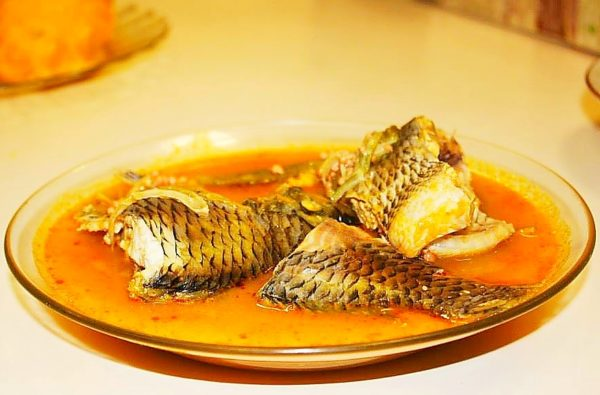oignon: (147, 183, 209, 208)
poivron: (358, 135, 371, 182)
sauce: (191, 304, 271, 343)
